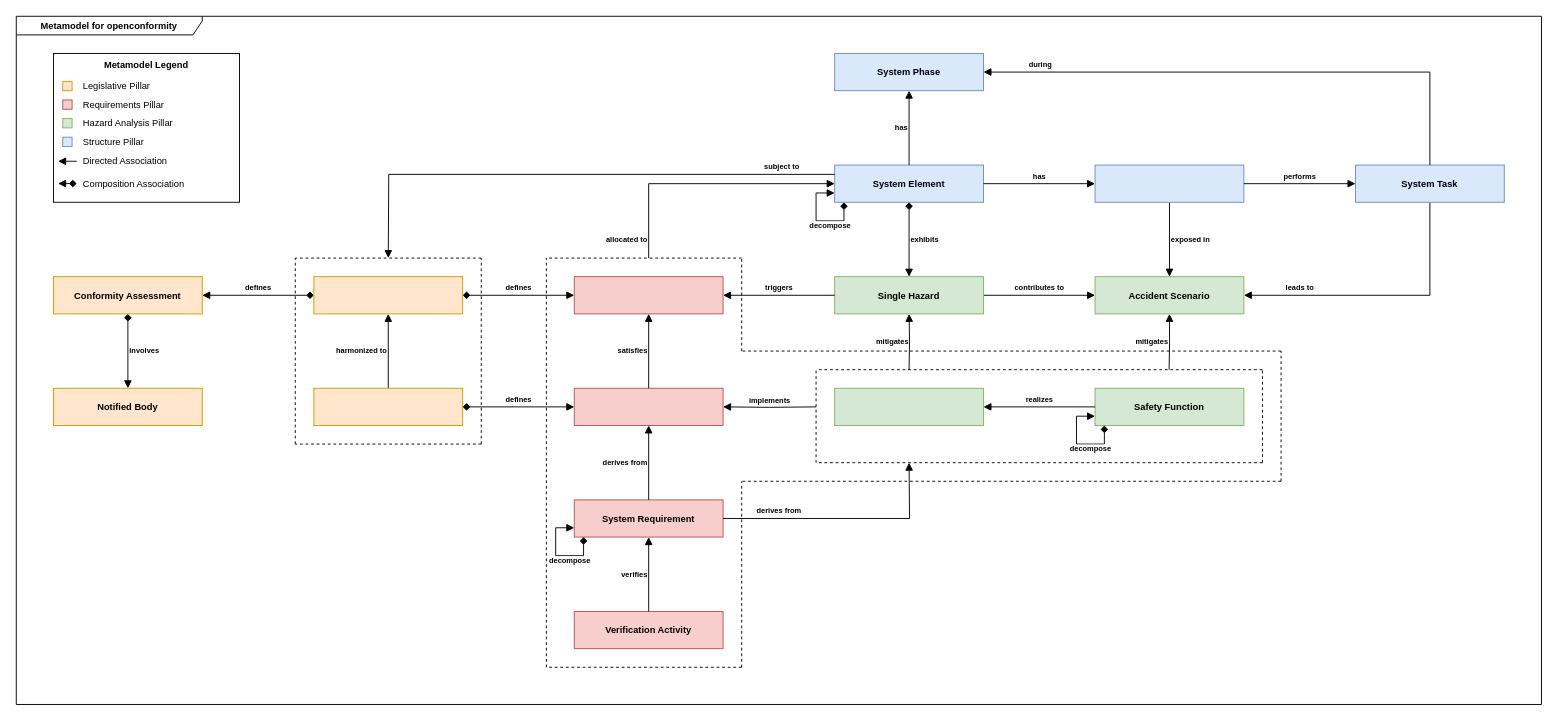
The diagram is 1558 pixels wide and 721 high, and some of its shapes have lost their labels. The centre of each missing label's shape, as x and y in pixels:
"Essential Requirement" goes at (x=648, y=295).
"European Legislation" goes at (x=388, y=295).
"European Standard" goes at (x=388, y=406).
"Protective Measure" goes at (x=908, y=406).
"Standard Requirement" goes at (x=648, y=406).
"System Actor" goes at (x=1169, y=183).
